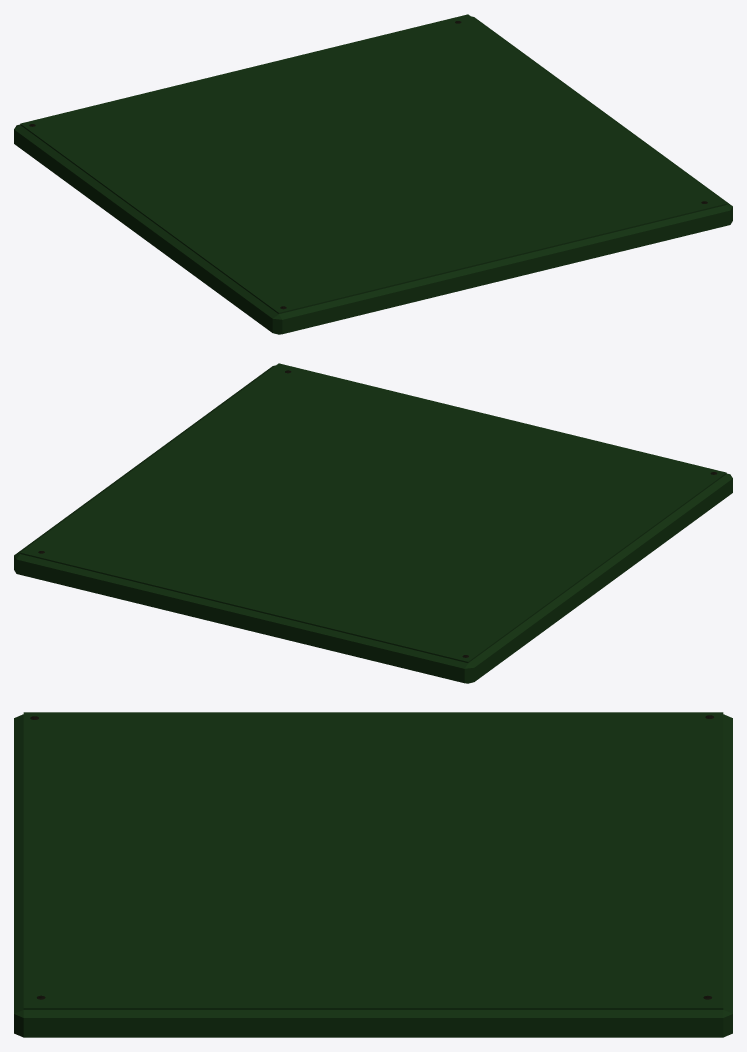
The model's file is platform2mesh 1.fbx.
3 views of the same model, one above another, from view 1: azimuth 30°, elevation 25°; view 2: azimuth 150°, elevation 25°; view 3: azimuth 270°, elevation 25° (orthographic). The views are drawn at different scales.
Visible parts, largest first — view 1: platform_low; view 2: platform_low; view 3: platform_low.
Boxes of the visible parts, x1,y1,x2,y2 form: platform_low: (14, 14, 732, 334); platform_low: (14, 363, 732, 683); platform_low: (14, 712, 732, 1037).
Size of the model in its own units: 61.06 by 9.81 by 61.06.
